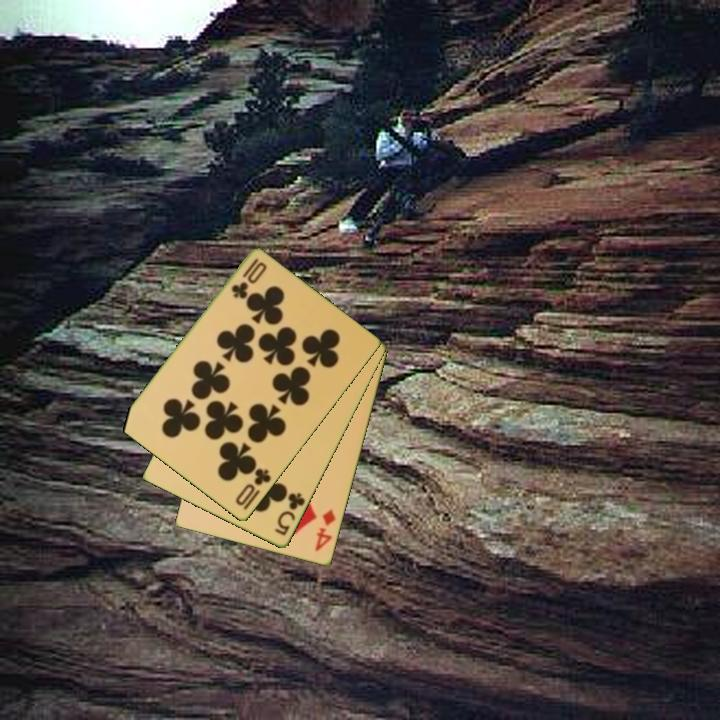10c: (232, 465, 274, 509), (228, 255, 262, 302)
4d: (311, 506, 339, 555)
5c: (271, 489, 308, 539)
